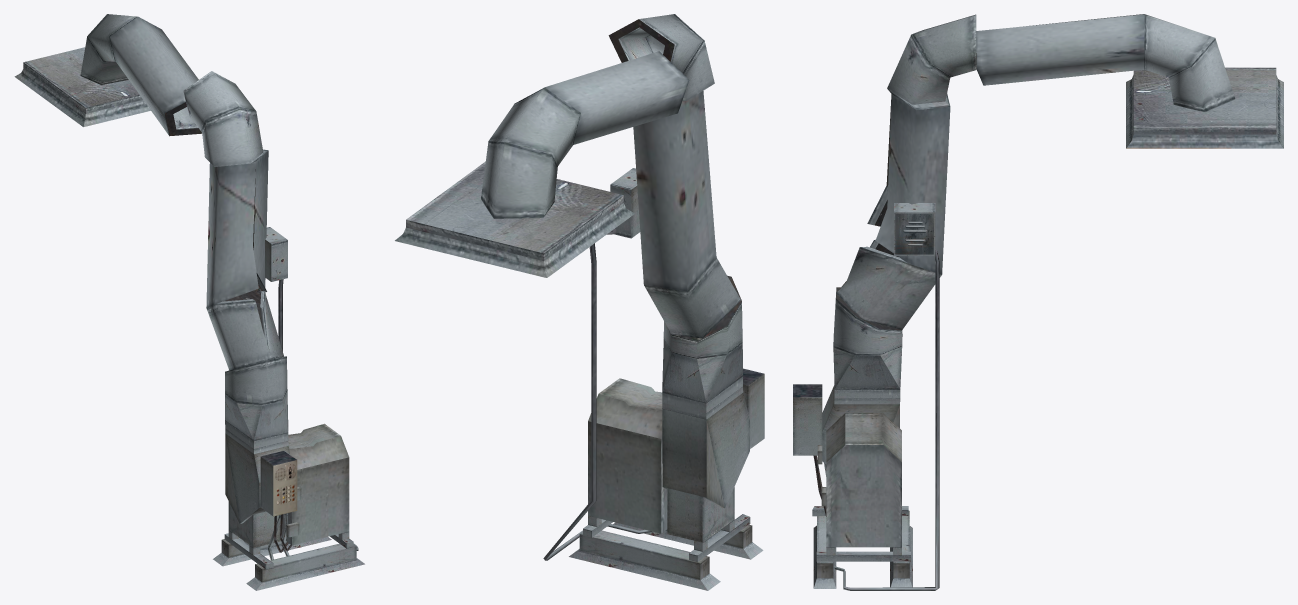
File: Roof_conection.fbx
3 renders of one model, left to right at view 1: azimuth 30°, elevation 25°; view 2: azimuth 150°, elevation 25°; view 3: azimuth 270°, elevation 25°, orthographic. The views are drawn at different scales.
Visible parts, largest first — view 1: Roof_conection; view 2: Roof_conection; view 3: Roof_conection.
Boxes of the visible parts, x1=… form: Roof_conection: x1=14, y1=14, x2=364, y2=590; Roof_conection: x1=395, y1=14, x2=764, y2=590; Roof_conection: x1=793, y1=14, x2=1283, y2=590.
Size of the model in its own units: 209 by 597 by 502.
